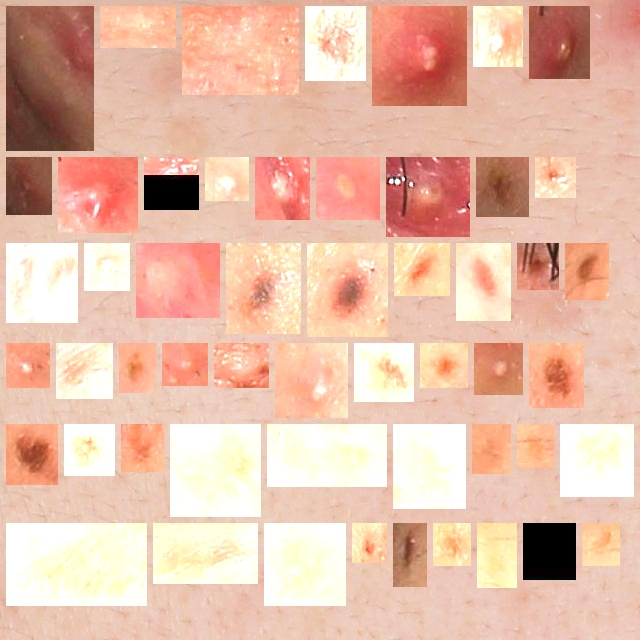hypertrophic_scar: (14, 14, 86, 143), (190, 14, 291, 87), (144, 251, 212, 310), (14, 251, 70, 315), (108, 14, 168, 40), (222, 351, 261, 380)
melasma: (14, 531, 139, 598), (178, 432, 253, 509), (275, 432, 379, 479), (272, 531, 338, 598), (161, 531, 250, 576), (401, 432, 458, 501), (568, 432, 626, 489), (64, 351, 105, 391), (531, 531, 568, 572), (485, 531, 509, 580), (480, 432, 503, 466), (127, 351, 148, 385), (590, 531, 612, 558), (525, 432, 546, 460)
nevus: (315, 251, 380, 329), (234, 251, 293, 326), (313, 14, 358, 73), (464, 251, 503, 313), (537, 351, 576, 400), (362, 351, 406, 394), (484, 165, 521, 209), (14, 432, 50, 477), (402, 251, 442, 288), (72, 432, 107, 468), (573, 251, 601, 292), (428, 351, 460, 380), (129, 432, 156, 464), (401, 531, 419, 579), (525, 251, 551, 282), (543, 165, 568, 190), (441, 531, 463, 558), (360, 531, 379, 555)
pustule: (380, 14, 459, 98), (394, 165, 462, 229), (66, 165, 130, 225), (283, 351, 340, 410), (537, 14, 582, 71), (324, 165, 372, 212), (263, 165, 302, 212), (481, 14, 515, 59), (152, 165, 191, 202), (14, 165, 44, 207), (482, 351, 515, 387), (92, 251, 122, 283), (14, 351, 42, 380), (170, 351, 200, 378), (213, 165, 241, 193)
